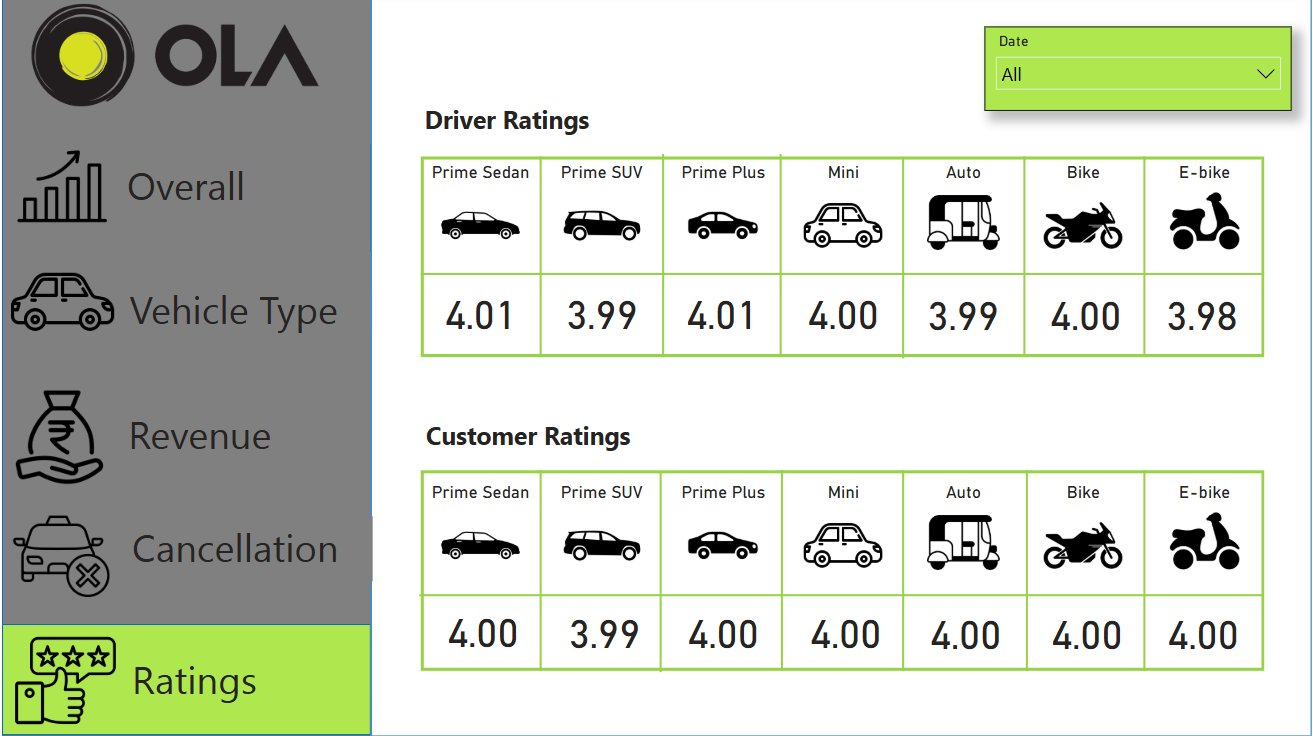

The dashboard page shown, as its layout file describes it:
{"tool":"powerbi","page":{"name":"Ratings","canvas":[1280,720],"ordinal":4},"visuals":[{"type":"shape","box":[0,0,360.9,720.4],"z":0},{"type":"group","id":"g1","title":"Group 1","box":[409.5,471.6,824.3,105.4],"z":0,"group":"g3"},{"type":"image","title":"logo","box":[0,0,338.9,109.8],"z":1000},{"type":"shape","box":[409.5,460.8,824.3,195.9],"z":1000,"group":"g3"},{"type":"shape","box":[360.3,0,919.2,720.5],"z":2000},{"type":"shape","box":[408.1,570.3,824.3,24.3],"z":2000,"group":"g3"},{"type":"slicer","fields":{"Values":["bangalore_ride_data_Jan25.Date"]},"box":[959.5,27,300,82.4],"z":3000},{"type":"shape","box":[502.7,460.8,48.6,195.9],"z":3000,"group":"g3"},{"type":"textbox","title":"Text box1","box":[117.7,151.6,240.3,62.9],"z":4000},{"type":"shape","box":[618.9,462.2,48.6,195.9],"z":4000,"group":"g3"},{"type":"image","title":"Image1","box":[0,128.3,118.3,110],"z":5000},{"type":"shape","box":[737.8,460.8,48.6,195.9],"z":5000,"group":"g3"},{"type":"actionButton","title":"Button1","box":[0,129.1,360.4,109.8],"z":6000},{"type":"shape","box":[856.7,460.8,48.6,195.9],"z":6000,"group":"g3"},{"type":"textbox","title":"Text box2","box":[120.1,271.7,240.1,63.2],"z":7000},{"type":"shape","box":[977,460.8,48.6,195.9],"z":7000,"group":"g3"},{"type":"image","title":"Image2","box":[0,240.1,118.5,110.6],"z":8000},{"type":"shape","box":[1091.9,460.8,48.6,195.9],"z":8000,"group":"g3"},{"type":"actionButton","title":"Button2","box":[0,240.1,360.2,110.6],"z":9000},{"type":"card","fields":{"Values":["Avg(bangalore_ride_data_Jan25.Customer Rating)"]},"box":[411.3,577.1,117,79.7],"z":9000,"group":"g3"},{"type":"textbox","title":"Text box3","box":[118.5,395,240.1,63.2],"z":10000},{"type":"card","fields":{"Values":["Avg(bangalore_ride_data_Jan25.Customer Rating)"]},"box":[530.2,578.5,117.6,78.4],"z":10000,"group":"g3"},{"type":"image","title":"Image3","box":[0,370,116.7,110],"z":11000},{"type":"card","fields":{"Values":["Avg(bangalore_ride_data_Jan25.Customer Rating)"]},"box":[646.4,578.5,117.6,78.4],"z":11000,"group":"g3"},{"type":"actionButton","title":"Button3","box":[0,371.3,360.2,110.6],"z":12000},{"type":"card","fields":{"Values":["Avg(bangalore_ride_data_Jan25.Customer Rating)"]},"box":[765.3,578.5,117.6,78.4],"z":12000,"group":"g3"},{"type":"textbox","title":"Text box4","box":[121.7,505.6,240.1,63.2],"z":13000},{"type":"card","fields":{"Values":["Avg(bangalore_ride_data_Jan25.Customer Rating)"]},"box":[882.9,579.8,117.6,78.4],"z":13000,"group":"g3"},{"type":"image","title":"Image4","box":[0,490,116.7,110],"z":14000},{"type":"card","fields":{"Values":["Avg(bangalore_ride_data_Jan25.Customer Rating)"]},"box":[1001.8,579.8,117.6,78.4],"z":14000,"group":"g3"},{"type":"actionButton","title":"Button4","box":[0,481.9,360.2,110.6],"z":15000},{"type":"card","fields":{"Values":["Avg(bangalore_ride_data_Jan25.Customer Rating)"]},"box":[1115.3,579.8,117.6,78.4],"z":15000,"group":"g3"},{"type":"shape","title":"Shape5","box":[0,610.8,360.3,108.5],"z":15500},{"type":"textbox","title":"Text box5","box":[121.7,633.5,240.1,63.2],"z":16000},{"type":"image","title":"Image5","box":[0,611.7,123.3,108.3],"z":17000},{"type":"actionButton","title":"Button5","box":[0,608.7,360.3,111.3],"z":18000},{"type":"group","id":"g2","title":"Group 3","box":[409.5,151.4,824.3,200],"z":19000},{"type":"shape","box":[409.5,154.1,824.3,195.9],"z":19000,"group":"g2"},{"type":"shape","box":[409.5,256.8,824.3,24.3],"z":20000,"group":"g2"},{"type":"group","id":"g3","title":"Group 4","box":[408.1,460.8,825.7,197.3],"z":20000},{"type":"shape","box":[502.7,154.1,48.6,195.9],"z":21000,"group":"g2"},{"type":"image","title":"Prime Sedan","box":[409.5,158.2,117,105.4],"z":21000,"group":"g4"},{"type":"textbox","box":[409.5,405.4,237.8,52.7],"z":21000},{"type":"image","title":"Prime Sedan","box":[409.5,471.6,117,105.4],"z":21000,"group":"g1"},{"type":"textbox","box":[408.1,95.9,210.8,54.1],"z":22000},{"type":"shape","box":[621.7,151.4,48.6,195.9],"z":22000,"group":"g2"},{"type":"image","title":"E-bike","box":[1116.3,158.2,117.6,97.3],"z":22000,"group":"g4"},{"type":"image","title":"E-bike","box":[1116.3,471.6,117.6,97.3],"z":22000,"group":"g1"},{"type":"shape","box":[736.5,151.4,48.6,195.9],"z":23000,"group":"g2"},{"type":"image","title":"Bike","box":[998.7,158.2,117.6,105.4],"z":23000,"group":"g4"},{"type":"image","title":"Bike","box":[998.7,471.6,117.6,105.4],"z":23000,"group":"g1"},{"type":"shape","box":[856.8,155.5,48.6,195.9],"z":24000,"group":"g2"},{"type":"image","title":"Auto","box":[881.1,158.2,117.6,100],"z":24000,"group":"g4"},{"type":"image","title":"Auto","box":[881.1,471.6,117.6,100],"z":24000,"group":"g1"},{"type":"shape","box":[974.4,154.1,48.6,195.9],"z":25000,"group":"g2"},{"type":"image","title":"Mini","box":[763.6,158.2,117.6,105.4],"z":25000,"group":"g4"},{"type":"image","title":"Mini","box":[763.6,471.6,117.6,105.4],"z":25000,"group":"g1"},{"type":"shape","box":[1091.9,154.1,48.6,195.9],"z":26000,"group":"g2"},{"type":"image","title":"Prime SUV","box":[528.4,158.2,117,105.4],"z":26000,"group":"g4"},{"type":"image","title":"Prime SUV","box":[528.4,471.6,117,105.4],"z":26000,"group":"g1"},{"type":"group","id":"g4","title":"Group 1","box":[409.5,158.2,824.3,105.4],"z":27000,"group":"g2"},{"type":"image","title":"Prime Plus","box":[646,158.2,117.6,105.4],"z":27000,"group":"g4"},{"type":"image","title":"Prime Plus","box":[646,471.6,117.6,105.4],"z":27000,"group":"g1"},{"type":"group","id":"g5","title":"Group 2","box":[409.5,264.9,821.6,81.1],"z":28000,"group":"g2"},{"type":"card","fields":{"Values":["Avg(bangalore_ride_data_Jan25.Driver Ratings)"]},"box":[409.5,264.9,117,79.7],"z":29000,"group":"g5"},{"type":"card","fields":{"Values":["Avg(bangalore_ride_data_Jan25.Driver Ratings)"]},"box":[528.4,266.3,117.6,78.4],"z":30000,"group":"g5"},{"type":"card","fields":{"Values":["Avg(bangalore_ride_data_Jan25.Driver Ratings)"]},"box":[644.6,266.3,117.6,78.4],"z":31000,"group":"g5"},{"type":"card","fields":{"Values":["Avg(bangalore_ride_data_Jan25.Driver Ratings)"]},"box":[763.6,266.3,117.6,78.4],"z":32000,"group":"g5"},{"type":"card","fields":{"Values":["Avg(bangalore_ride_data_Jan25.Driver Ratings)"]},"box":[881.1,267.6,117.6,78.4],"z":33000,"group":"g5"},{"type":"card","fields":{"Values":["Avg(bangalore_ride_data_Jan25.Driver Ratings)"]},"box":[1000,267.6,117.6,78.4],"z":34000,"group":"g5"},{"type":"card","fields":{"Values":["Avg(bangalore_ride_data_Jan25.Driver Ratings)"]},"box":[1113.6,267.6,117.6,78.4],"z":35000,"group":"g5"}]}

Visuals, with their boxes in screenshot pixels (x1, y1, x2, y2), scaled from the page's 1280x720 canvas onto the 1313x736 screenshot:
shape: <bbox>0, 0, 370, 735</bbox>
"Group 1" group: <bbox>420, 482, 1266, 590</bbox>
"logo" image: <bbox>0, 0, 348, 112</bbox>
shape: <bbox>420, 471, 1266, 671</bbox>
shape: <bbox>370, 0, 1312, 735</bbox>
shape: <bbox>419, 583, 1264, 608</bbox>
slicer - bangalore_ride_data_Jan25.Date: <bbox>984, 28, 1292, 112</bbox>
shape: <bbox>516, 471, 566, 671</bbox>
"Text box1" textbox: <bbox>121, 155, 367, 219</bbox>
shape: <bbox>635, 472, 685, 673</bbox>
"Image1" image: <bbox>0, 131, 121, 244</bbox>
shape: <bbox>757, 471, 807, 671</bbox>
"Button1" actionButton: <bbox>0, 132, 370, 244</bbox>
shape: <bbox>879, 471, 929, 671</bbox>
"Text box2" textbox: <bbox>123, 278, 369, 342</bbox>
shape: <bbox>1002, 471, 1052, 671</bbox>
"Image2" image: <bbox>0, 245, 122, 358</bbox>
shape: <bbox>1120, 471, 1170, 671</bbox>
"Button2" actionButton: <bbox>0, 245, 369, 358</bbox>
card - Avg(bangalore_ride_data_Jan25.Customer Rating): <bbox>422, 590, 542, 671</bbox>
"Text box3" textbox: <bbox>122, 404, 368, 468</bbox>
card - Avg(bangalore_ride_data_Jan25.Customer Rating): <bbox>544, 591, 665, 671</bbox>
"Image3" image: <bbox>0, 378, 120, 491</bbox>
card - Avg(bangalore_ride_data_Jan25.Customer Rating): <bbox>663, 591, 784, 671</bbox>
"Button3" actionButton: <bbox>0, 380, 369, 493</bbox>
card - Avg(bangalore_ride_data_Jan25.Customer Rating): <bbox>785, 591, 906, 671</bbox>
"Text box4" textbox: <bbox>125, 517, 371, 581</bbox>
card - Avg(bangalore_ride_data_Jan25.Customer Rating): <bbox>906, 593, 1026, 673</bbox>
"Image4" image: <bbox>0, 501, 120, 613</bbox>
card - Avg(bangalore_ride_data_Jan25.Customer Rating): <bbox>1028, 593, 1148, 673</bbox>
"Button4" actionButton: <bbox>0, 493, 369, 606</bbox>
card - Avg(bangalore_ride_data_Jan25.Customer Rating): <bbox>1144, 593, 1265, 673</bbox>
"Shape5" shape: <bbox>0, 624, 370, 735</bbox>
"Text box5" textbox: <bbox>125, 648, 371, 712</bbox>
"Image5" image: <bbox>0, 625, 126, 735</bbox>
"Button5" actionButton: <bbox>0, 622, 370, 735</bbox>
"Group 3" group: <bbox>420, 155, 1266, 359</bbox>
shape: <bbox>420, 158, 1266, 358</bbox>
shape: <bbox>420, 263, 1266, 287</bbox>
"Group 4" group: <bbox>419, 471, 1266, 673</bbox>
shape: <bbox>516, 158, 566, 358</bbox>
"Prime Sedan" image: <bbox>420, 162, 540, 269</bbox>
textbox: <bbox>420, 414, 664, 468</bbox>
"Prime Sedan" image: <bbox>420, 482, 540, 590</bbox>
textbox: <bbox>419, 98, 635, 153</bbox>
shape: <bbox>638, 155, 688, 355</bbox>
"E-bike" image: <bbox>1145, 162, 1266, 261</bbox>
"E-bike" image: <bbox>1145, 482, 1266, 582</bbox>
shape: <bbox>755, 155, 805, 355</bbox>
"Bike" image: <bbox>1024, 162, 1145, 269</bbox>
"Bike" image: <bbox>1024, 482, 1145, 590</bbox>
shape: <bbox>879, 159, 929, 359</bbox>
"Auto" image: <bbox>904, 162, 1024, 264</bbox>
"Auto" image: <bbox>904, 482, 1024, 584</bbox>
shape: <bbox>1000, 158, 1049, 358</bbox>
"Mini" image: <bbox>783, 162, 904, 269</bbox>
"Mini" image: <bbox>783, 482, 904, 590</bbox>
shape: <bbox>1120, 158, 1170, 358</bbox>
"Prime SUV" image: <bbox>542, 162, 662, 269</bbox>
"Prime SUV" image: <bbox>542, 482, 662, 590</bbox>
"Group 1" group: <bbox>420, 162, 1266, 269</bbox>
"Prime Plus" image: <bbox>663, 162, 783, 269</bbox>
"Prime Plus" image: <bbox>663, 482, 783, 590</bbox>
"Group 2" group: <bbox>420, 271, 1263, 354</bbox>
card - Avg(bangalore_ride_data_Jan25.Driver Ratings): <bbox>420, 271, 540, 352</bbox>
card - Avg(bangalore_ride_data_Jan25.Driver Ratings): <bbox>542, 272, 663, 352</bbox>
card - Avg(bangalore_ride_data_Jan25.Driver Ratings): <bbox>661, 272, 782, 352</bbox>
card - Avg(bangalore_ride_data_Jan25.Driver Ratings): <bbox>783, 272, 904, 352</bbox>
card - Avg(bangalore_ride_data_Jan25.Driver Ratings): <bbox>904, 274, 1024, 354</bbox>
card - Avg(bangalore_ride_data_Jan25.Driver Ratings): <bbox>1026, 274, 1146, 354</bbox>
card - Avg(bangalore_ride_data_Jan25.Driver Ratings): <bbox>1142, 274, 1263, 354</bbox>
